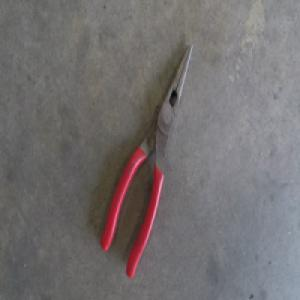Pliers: (102, 39, 192, 273)
